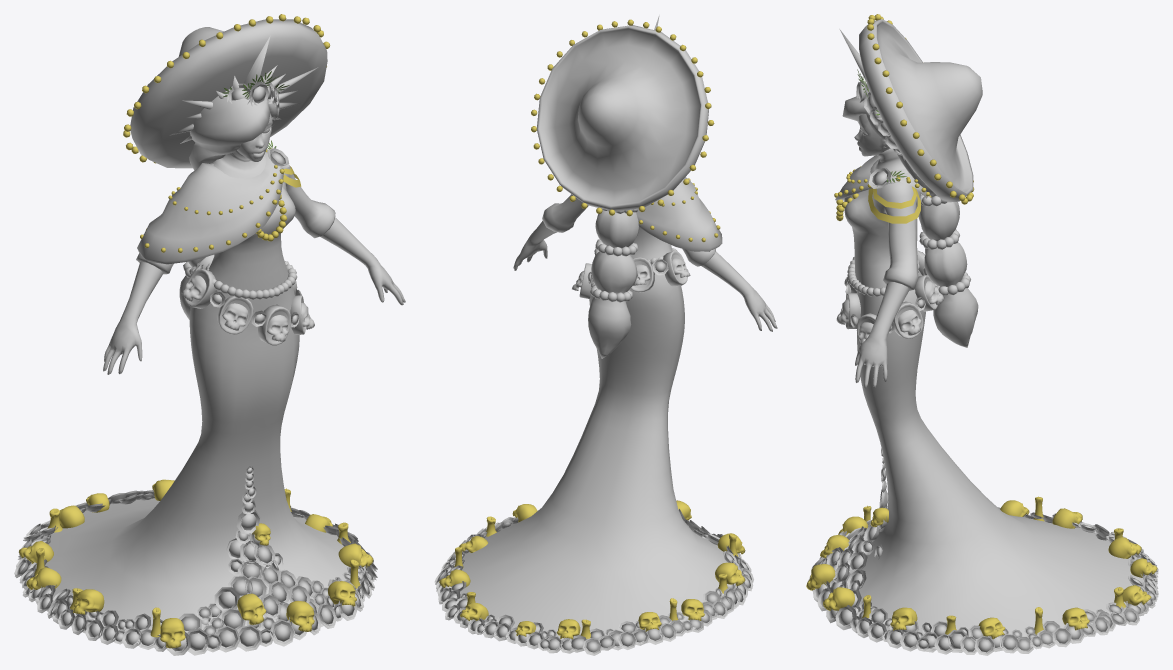
Rendered from LaMuerteBlender +Mari.fbx.
The picture shows the model from 3 angles, left to right: view 1: azimuth 30°, elevation 25°; view 2: azimuth 150°, elevation 25°; view 3: azimuth 270°, elevation 25°; orthographic projection. The views are drawn at different scales.
Visible parts, largest first — view 1: Dress_Low, Sombrero_Low, Cape_Low, Body_Low, Hair_Low, Spikes_Low, PearlBelts_Low, NeckPiece_Low, SkullBottom00, SkullBottom05, SkullBottom03, SkullBottom13 (+5 smaller); view 2: Dress_Low, Sombrero_Low, Hair_Low, Cape_Low, Body_Low, HairPearls_Low; view 3: Dress_Low, Sombrero_Low, Hair_Low, Body_Low, HairPearls_Low, Cape_Low, ShoulderStrap02, NeckPiece_Low, SkullBottom01, SkullBottom05, SkullBottom08.
Boxes of the visible parts, x1,y1,x2,y2 form: Dress_Low: (21,163,366,649); Sombrero_Low: (130,19,327,168); Cape_Low: (137,152,283,264); Body_Low: (103,113,405,374); Hair_Low: (179,89,276,319); Spikes_Low: (169,35,318,143); PearlBelts_Low: (205,261,297,299); NeckPiece_Low: (212,150,266,178); SkullBottom00: (237,593,266,624); SkullBottom05: (286,601,314,631); SkullBottom03: (73,589,104,614); SkullBottom13: (160,618,185,648); Dress_Low: (460,194,740,646); Sombrero_Low: (536,25,708,211); Hair_Low: (588,210,639,358); Cape_Low: (636,177,722,251); Body_Low: (513,221,777,331); HairPearls_Low: (590,208,638,302); Dress_Low: (844,183,1144,651); Sombrero_Low: (859,19,982,202); Hair_Low: (842,88,978,347); Body_Low: (854,114,909,388); HairPearls_Low: (919,194,970,295); Cape_Low: (835,155,927,200); ShoulderStrap02: (868,188,920,223); NeckPiece_Low: (870,148,908,173); SkullBottom01: (823,587,854,610); SkullBottom05: (806,564,835,590); SkullBottom08: (1108,536,1141,558).
Size of the model in its own units: 2.49 by 4.63 by 2.63.
